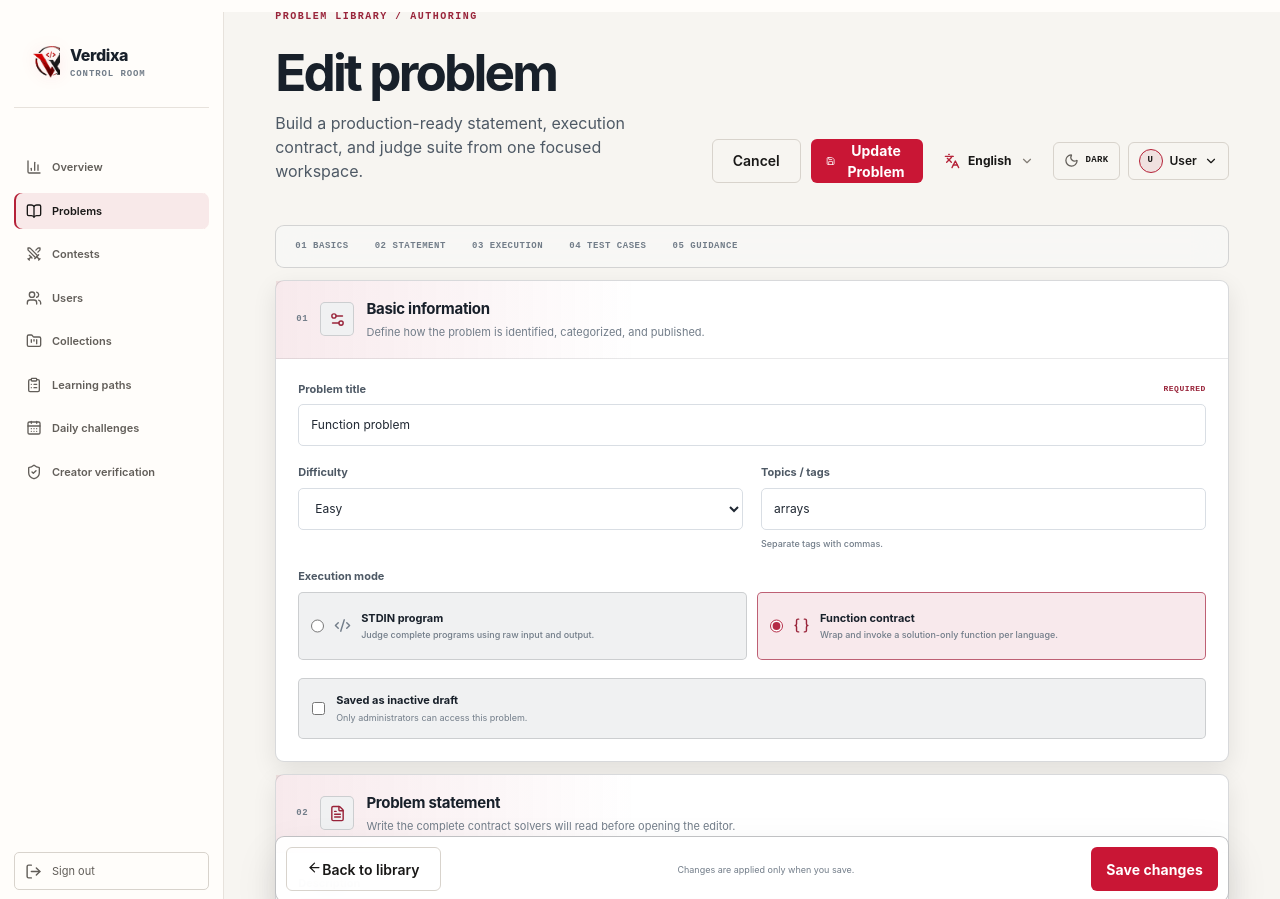
Scenario: admin update displays backend failure without alert
Check: the field showing "Function problem" is shown, box [298, 404, 1206, 446]
Click the button "Update Problem" at (867, 161), box [811, 139, 923, 183]
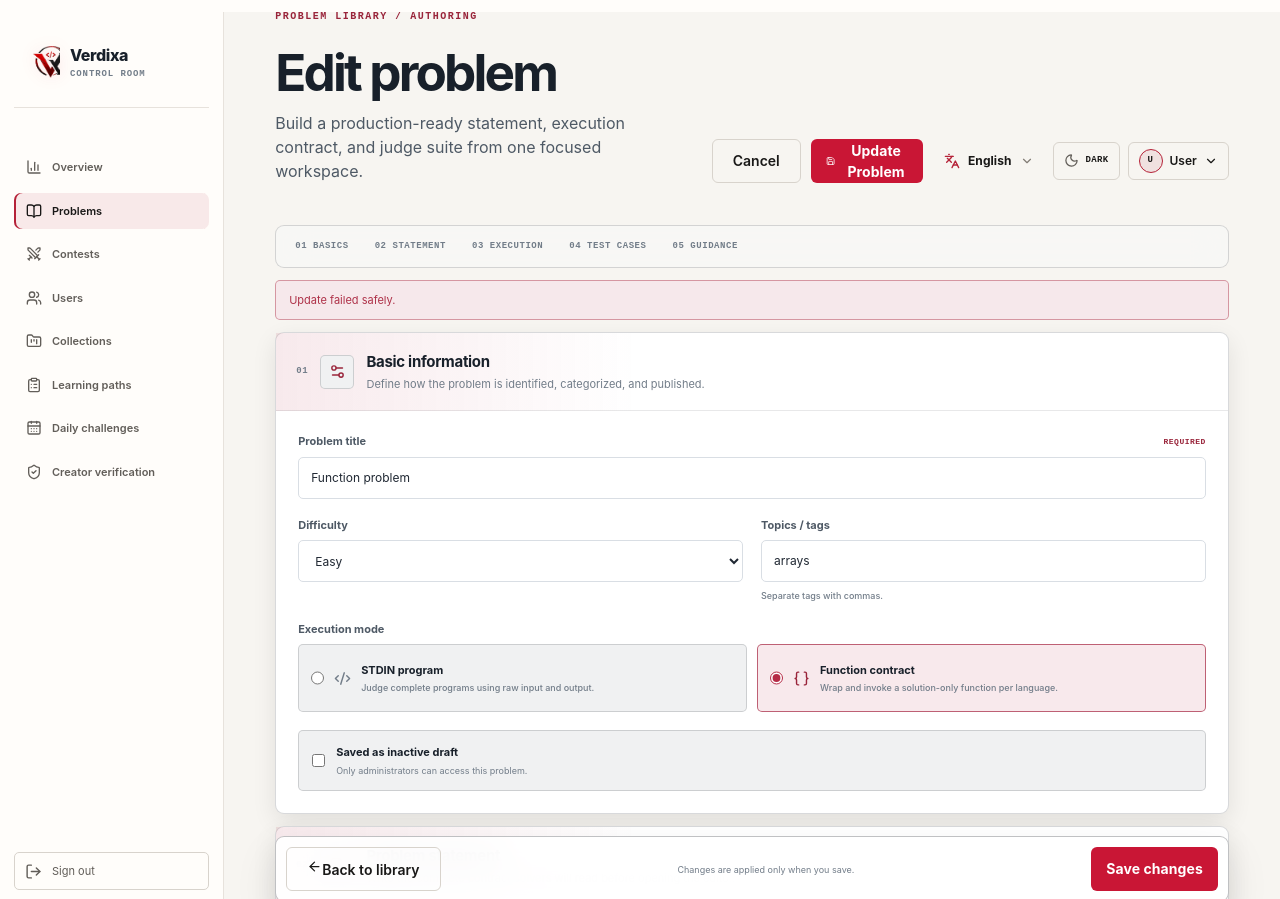
Check: the message reads "Update failed safely.", box [289, 293, 395, 307]
